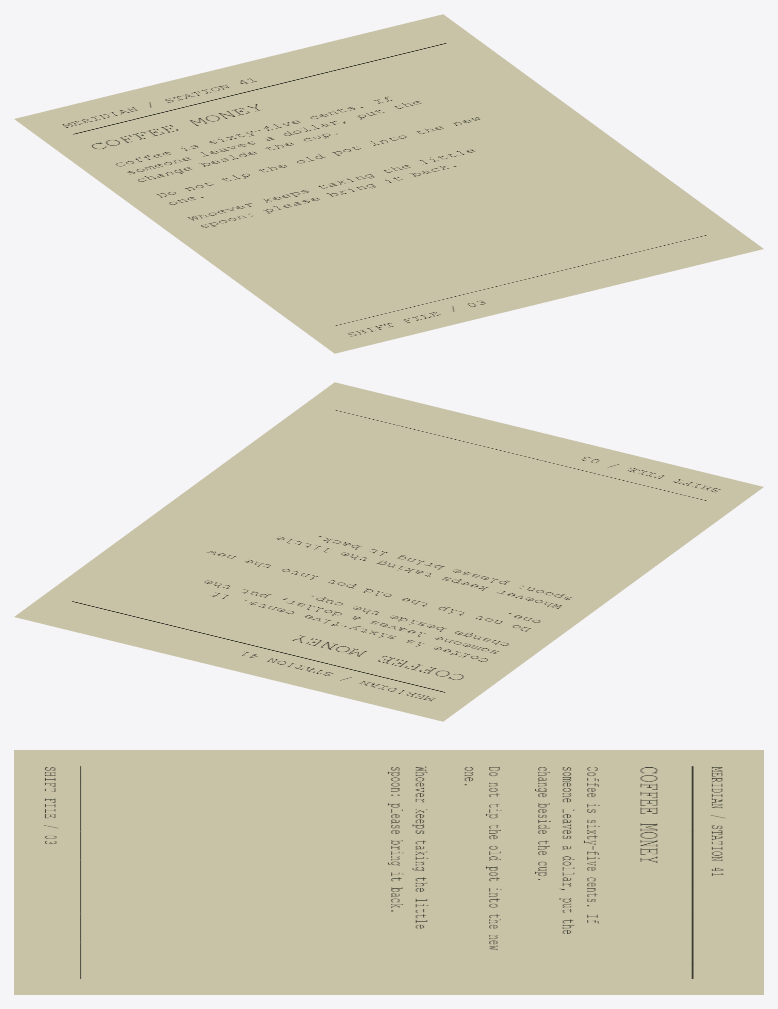
The model's file is letter_coffee.glb.
3 renders of one model, top to bottom at view 1: azimuth 30°, elevation 25°; view 2: azimuth 150°, elevation 25°; view 3: azimuth 270°, elevation 25°, orthographic. The views are drawn at different scales.
Parts seen in each view (by area): view 1: letter_coffee; view 2: letter_coffee; view 3: letter_coffee.
Boxes of the visible parts, x1=… form: letter_coffee: x1=14, y1=14, x2=763, y2=353; letter_coffee: x1=14, y1=382, x2=763, y2=721; letter_coffee: x1=14, y1=750, x2=763, y2=994.
Size of the model in its own units: 0.17 by 0 by 0.22.
Materials: 1 (1 with a texture image).
